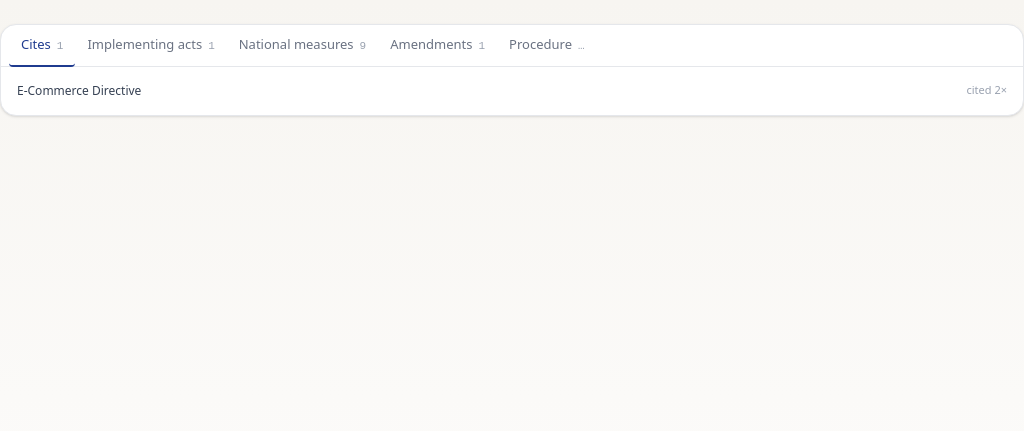
MetadataPanel tabs › shows eight national rows initially and expands with Show all
Click the tab "National measures 9" at (302, 46), box [227,25,378,66]
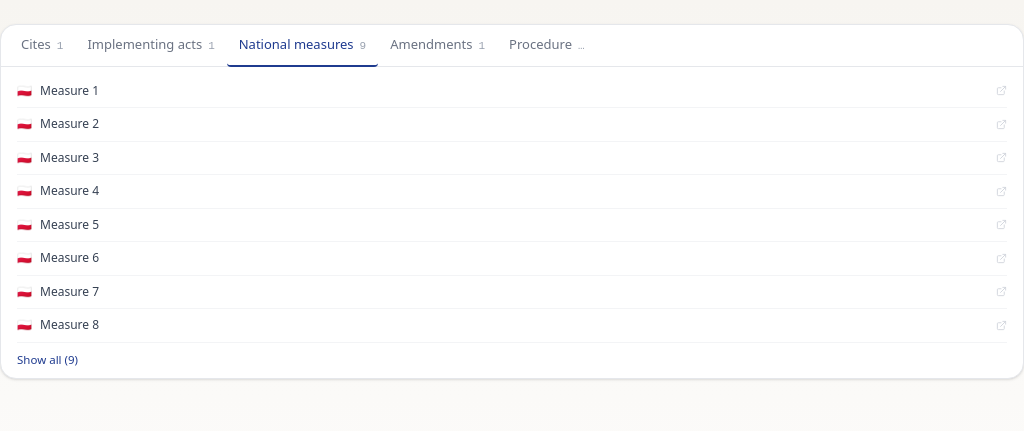
Expected: the text "Measure 9" is not shown
Now the text "Measure 8" is shown, box [40,317,99,334]
Click the button "Show all (9)" at (48, 359), box [17,342,1007,368]
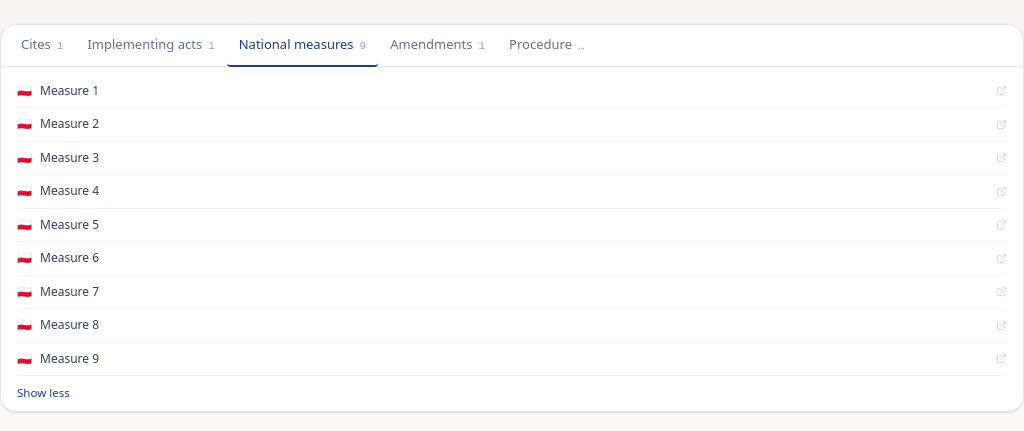
Now the text "Measure 9" is shown, box [40,350,99,367]
